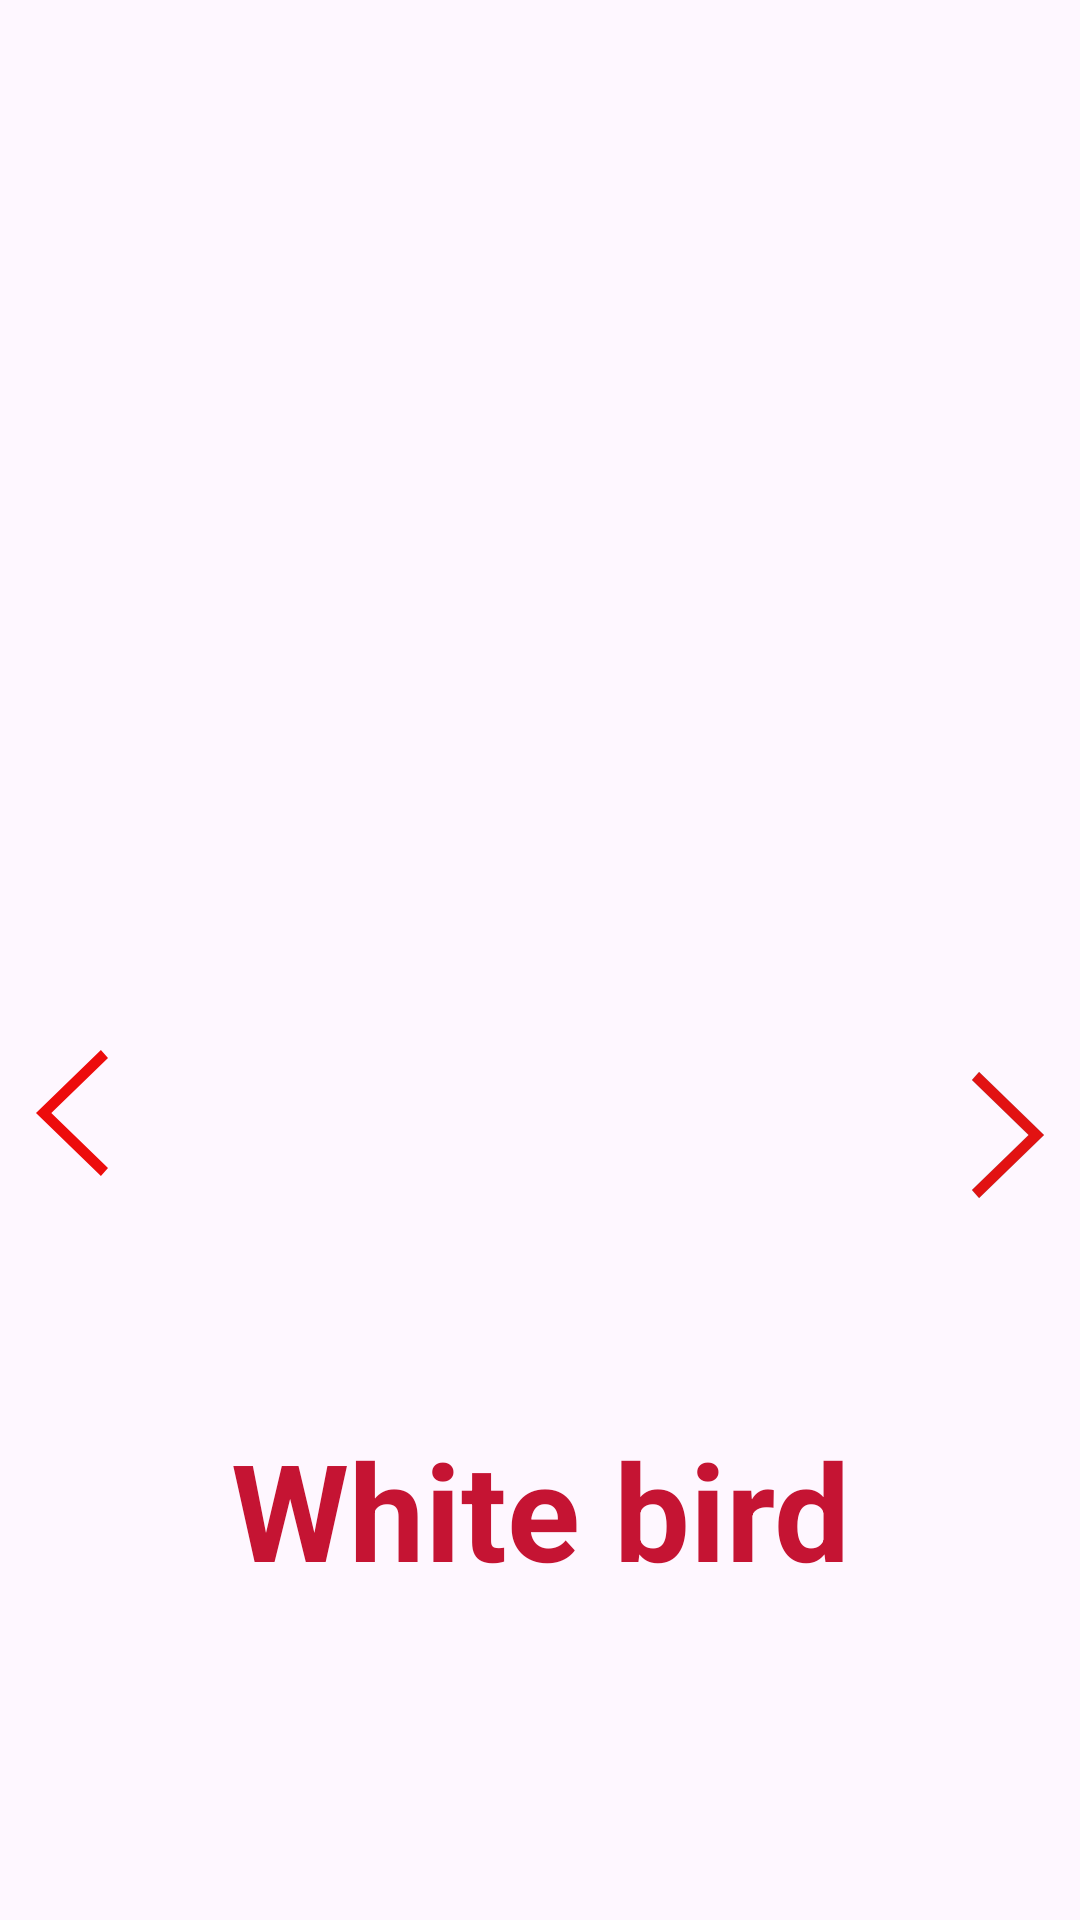

Icons on this 1080 x 1920 Android screen, each with the point to tap as (x,y):
left arrow backup: (72,1113)
right arrow: (1008,1135)
